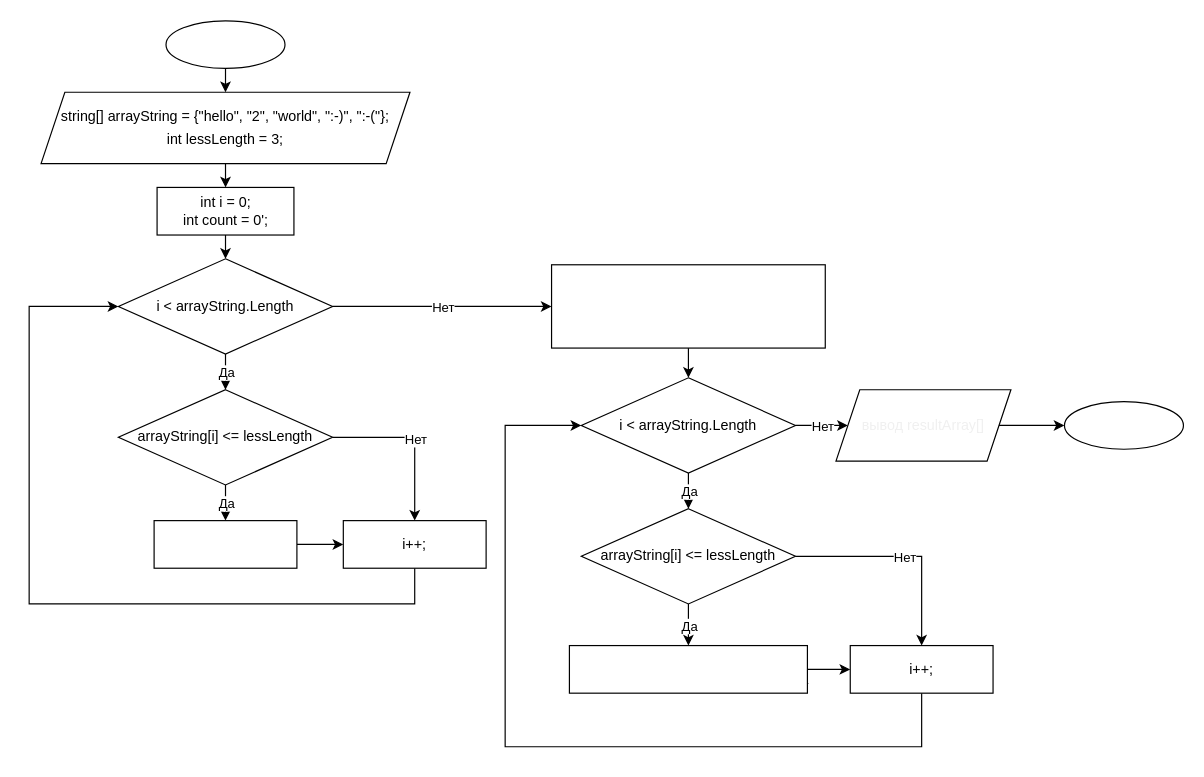
This 1204x777 diagram has some shape labels left out. The box of each missing label's shape, as (x1, y1, x2, y2) in pixels:
count++;: (153, 519, 297, 568)
resultArray[index] = arrayString[i]; index++;: (568, 644, 807, 693)
string[] resultArray = new string[count]; int index = 0; i = 0;: (550, 264, 825, 348)
конец: (1063, 400, 1183, 449)
начало: (165, 20, 285, 68)
